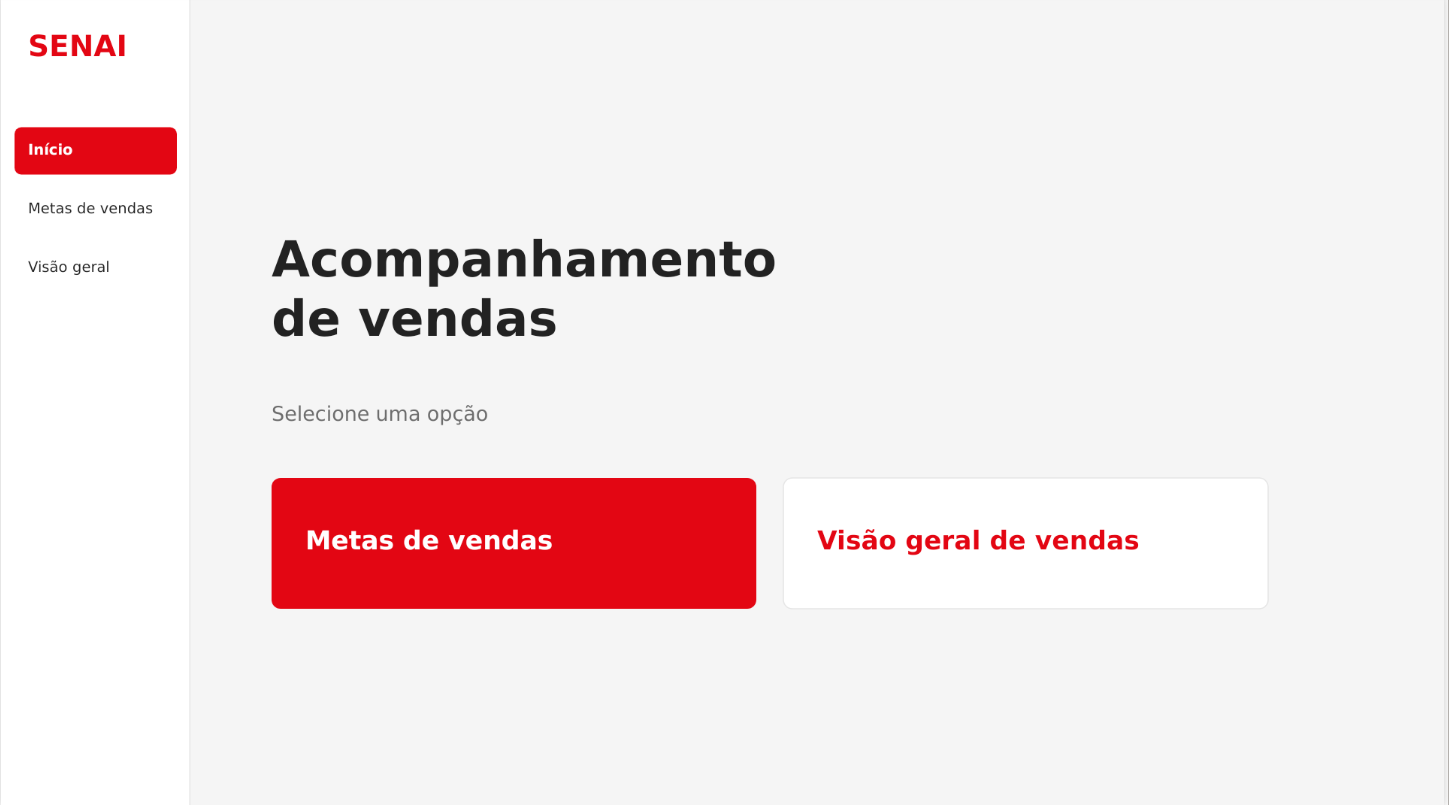

Layout of this report page (visuals, bound fields, positions):
{"tool":"powerbi","page":{"name":"Menu","canvas":[1280,720],"ordinal":0},"visuals":[{"type":"actionButton","box":[240,430,430,116],"z":0},{"type":"actionButton","box":[694,430,430,116],"z":1000},{"type":"actionButton","box":[12,171,144,42],"z":20000},{"type":"actionButton","box":[12,223,144,42],"z":20000}]}

Visuals, with their boxes in screenshot pixels (x1, y1, x2, y2), scaled from the page's 1280x720 canvas onto the 1449x805 screenshot:
actionButton: pyautogui.locateOnScreen(272, 481, 758, 610)
actionButton: pyautogui.locateOnScreen(786, 481, 1272, 610)
actionButton: pyautogui.locateOnScreen(14, 191, 177, 238)
actionButton: pyautogui.locateOnScreen(14, 249, 177, 296)
